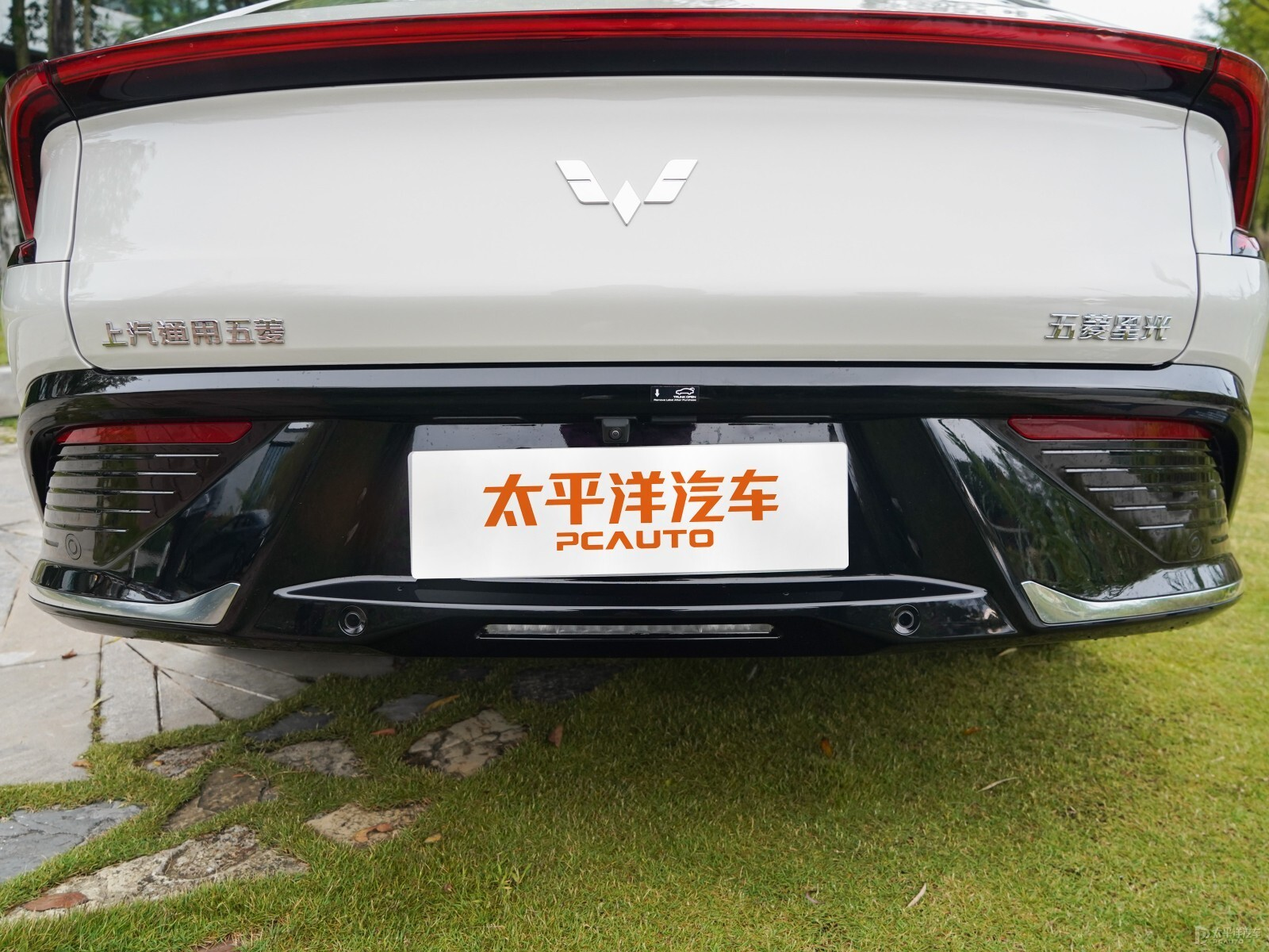SGMW: (556, 159, 698, 225)
